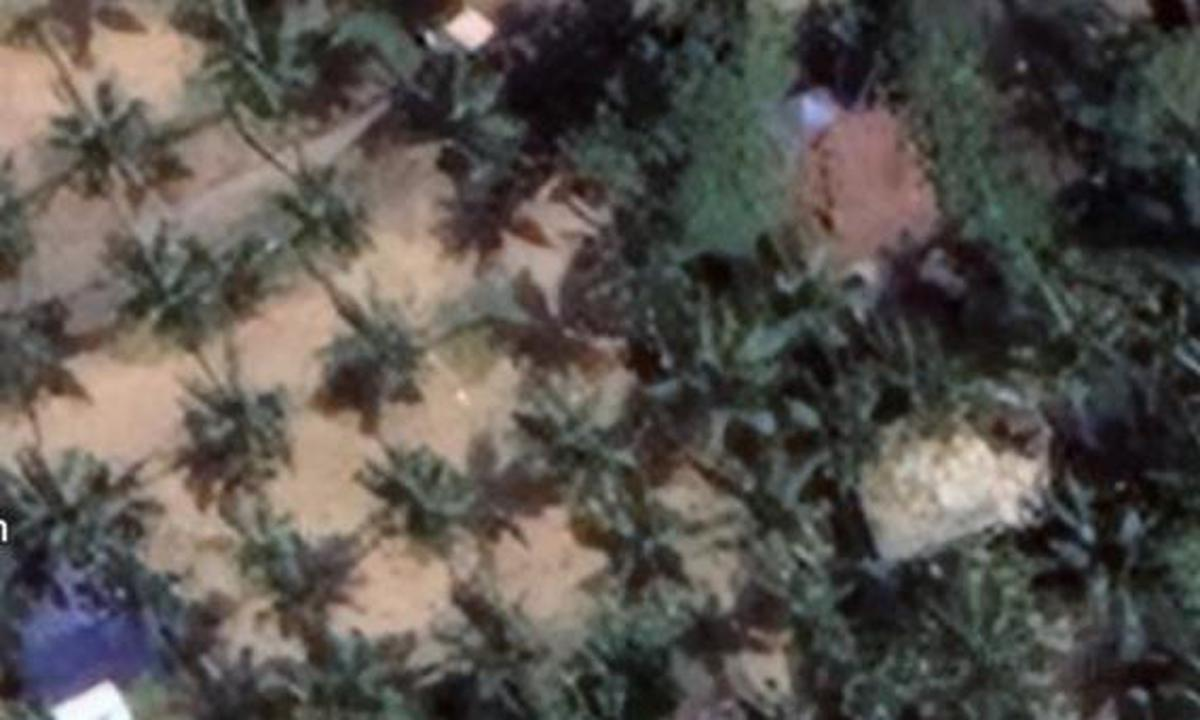coconut: (0, 415, 135, 574), (1024, 466, 1166, 610), (111, 211, 259, 348), (650, 282, 790, 422), (162, 369, 300, 506), (192, 0, 340, 126), (33, 63, 169, 200), (813, 297, 946, 437), (923, 582, 1052, 715), (515, 375, 650, 502), (1003, 268, 1134, 396), (722, 449, 855, 574), (405, 52, 528, 177), (223, 532, 361, 635), (754, 534, 878, 648), (597, 477, 701, 610), (435, 582, 555, 696), (384, 441, 496, 557), (327, 291, 437, 407), (272, 147, 380, 261), (177, 624, 304, 720), (297, 620, 416, 720), (762, 247, 870, 356), (1128, 285, 1200, 405)
